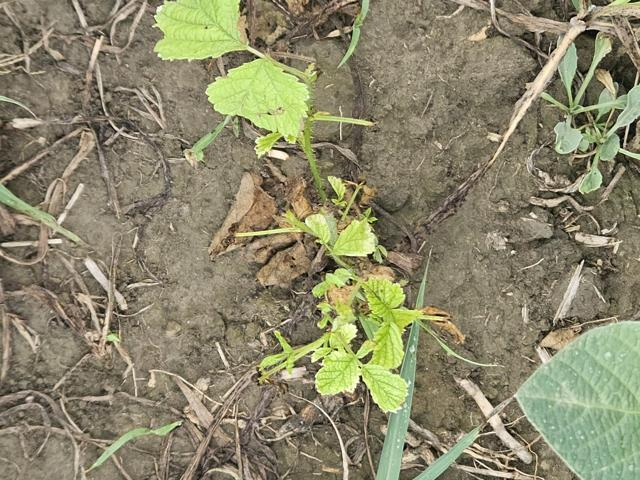bad weed: (236, 186, 424, 426), (121, 9, 345, 166), (545, 48, 640, 199)
